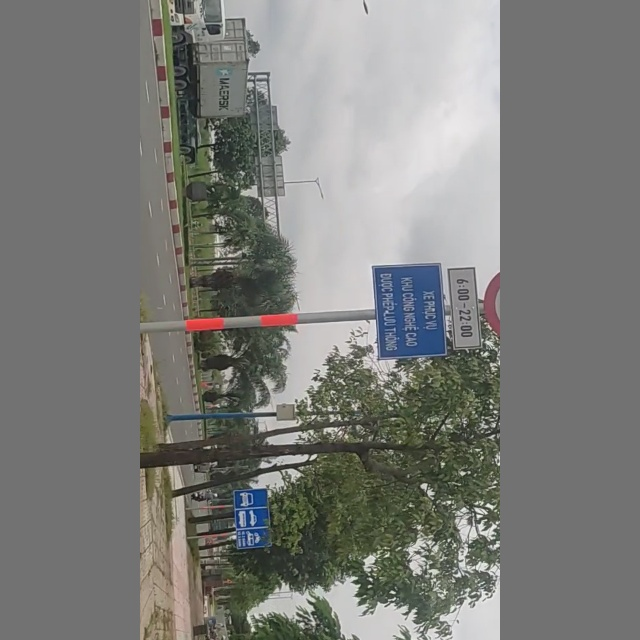R.415a: (232, 487, 277, 552)
